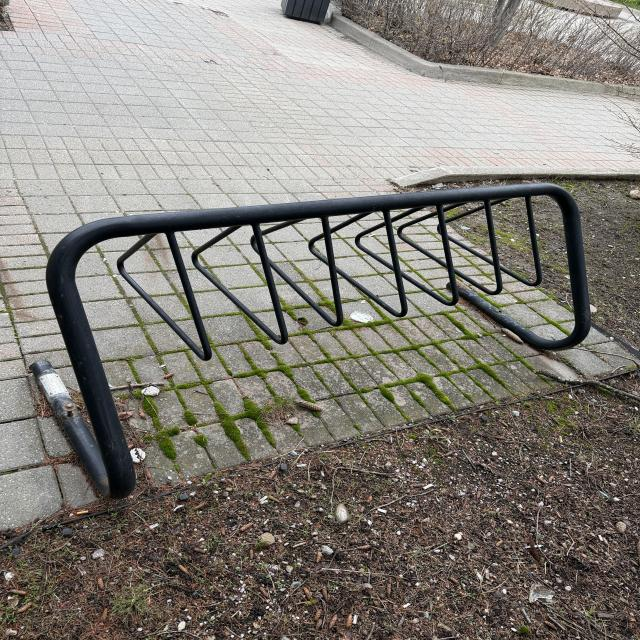Bicycle Rack: (31, 180, 597, 501)
